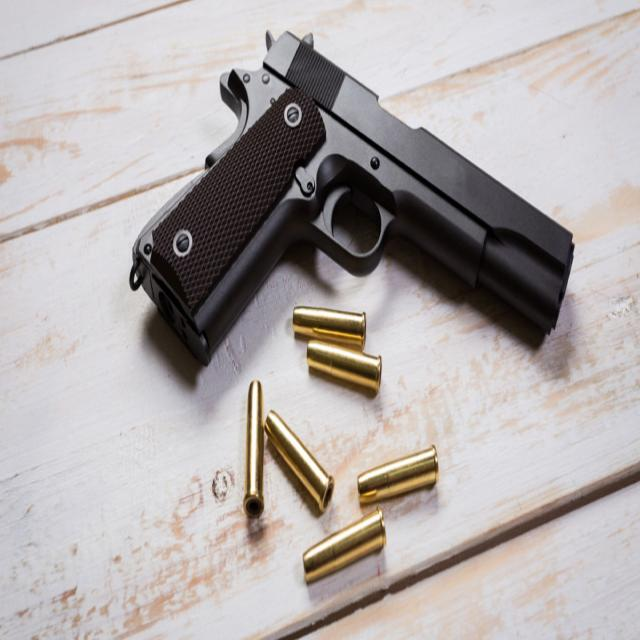HandGun: (129, 32, 574, 366)
